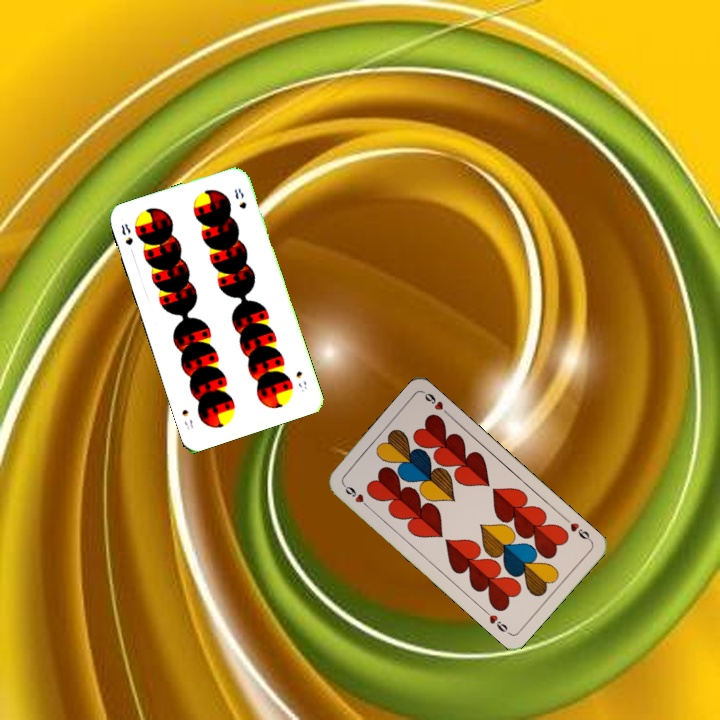H9: (561, 514, 594, 545), (339, 480, 372, 511)
S8: (117, 219, 136, 248), (292, 367, 309, 394)
